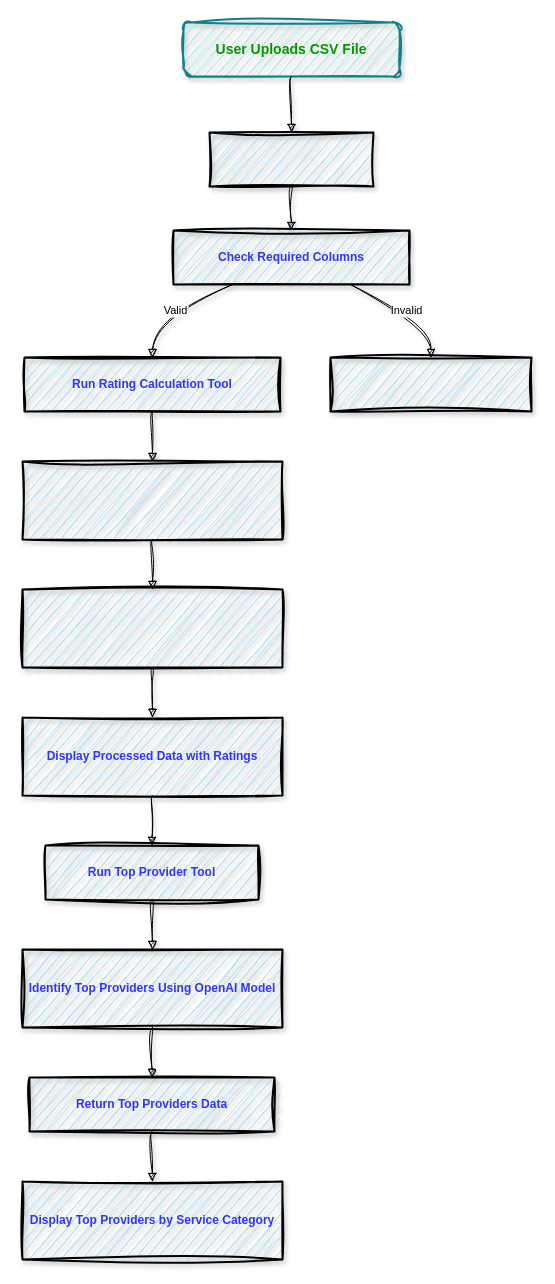
This 555x1284 diagram has some shape labels left out. Each missing label, with the centre of its shape:
Generate Ratings Using OpenAI Model: point 153,501
Read CSV Data: point 292,160
Return Processed Data with Ratings: point 153,629
Show Error Message: point 431,385
